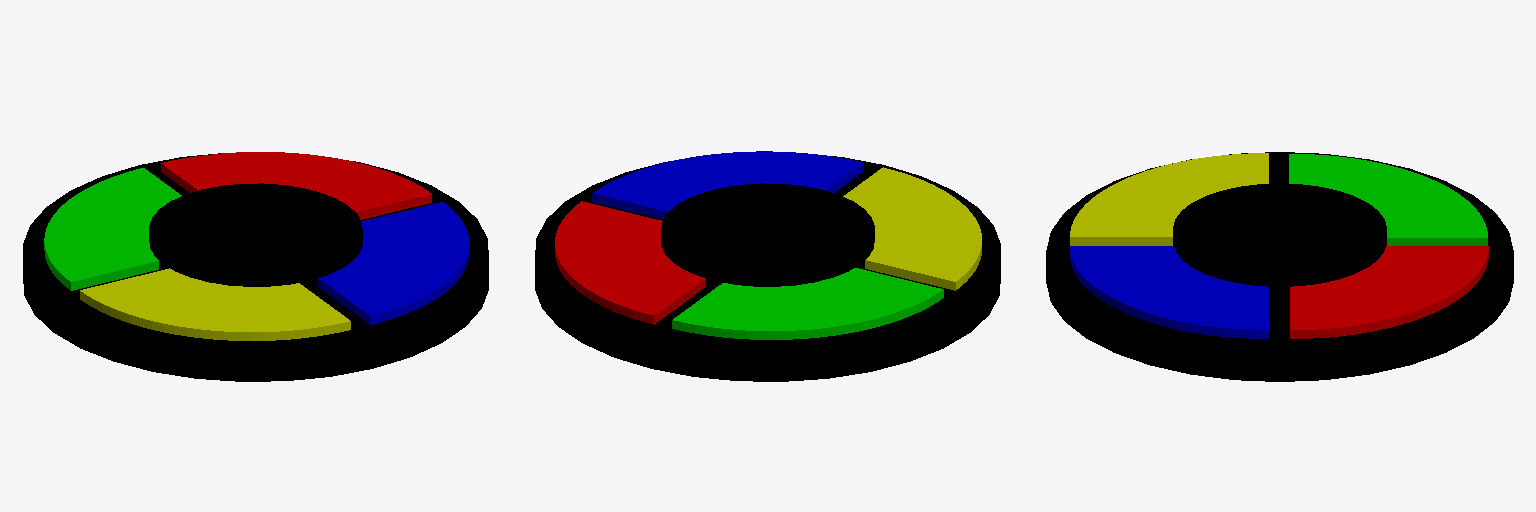
File: simonsays.obj
3 renders of one model, left to right at view 1: azimuth 30°, elevation 25°; view 2: azimuth 150°, elevation 25°; view 3: azimuth 270°, elevation 25°, orthographic.
Visible parts, largest first — view 1: ToyBase_Cylinder.006, YellowButton_Circle.001, BlueButton_Circle.004, GreenButton_Circle.002, RedButton_Circle.003; view 2: ToyBase_Cylinder.006, GreenButton_Circle.002, RedButton_Circle.003, YellowButton_Circle.001, BlueButton_Circle.004; view 3: ToyBase_Cylinder.006, BlueButton_Circle.004, RedButton_Circle.003, YellowButton_Circle.001, GreenButton_Circle.002.
Part boxes in pixels (bbox=[...]): ToyBase_Cylinder.006: bbox=[23, 153, 488, 381]; YellowButton_Circle.001: bbox=[80, 268, 350, 340]; BlueButton_Circle.004: bbox=[318, 202, 469, 324]; GreenButton_Circle.002: bbox=[44, 168, 181, 290]; RedButton_Circle.003: bbox=[161, 152, 431, 219]; ToyBase_Cylinder.006: bbox=[535, 155, 1000, 381]; GreenButton_Circle.002: bbox=[672, 268, 943, 339]; RedButton_Circle.003: bbox=[555, 201, 705, 324]; YellowButton_Circle.001: bbox=[843, 167, 981, 290]; BlueButton_Circle.004: bbox=[592, 151, 863, 219]; ToyBase_Cylinder.006: bbox=[1046, 152, 1513, 381]; BlueButton_Circle.004: bbox=[1070, 246, 1268, 338]; RedButton_Circle.003: bbox=[1290, 246, 1488, 338]; YellowButton_Circle.001: bbox=[1070, 153, 1268, 245]; GreenButton_Circle.002: bbox=[1289, 154, 1487, 245].
Size of the model in its own units: 2 by 0.2591 by 2.